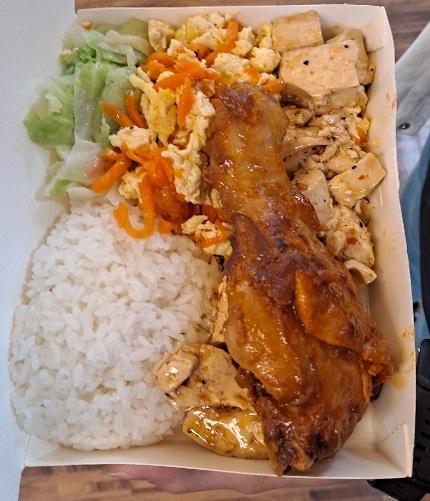big grilled chicken leg: (18, 4, 430, 489)
big herbal chicken leg: (15, 198, 217, 451)
braised fish fillet: (124, 9, 270, 232), (274, 16, 389, 282), (34, 14, 159, 200), (168, 268, 262, 460)
braised pork: (210, 86, 398, 473)
